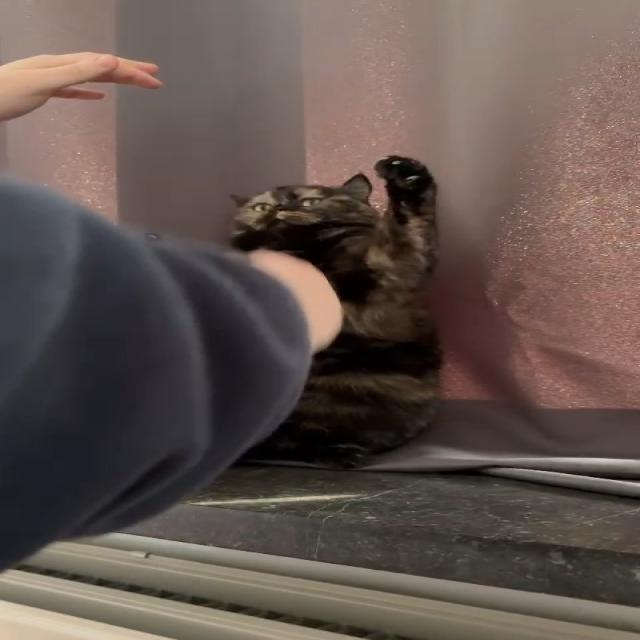authorized: (229, 156, 444, 470)
